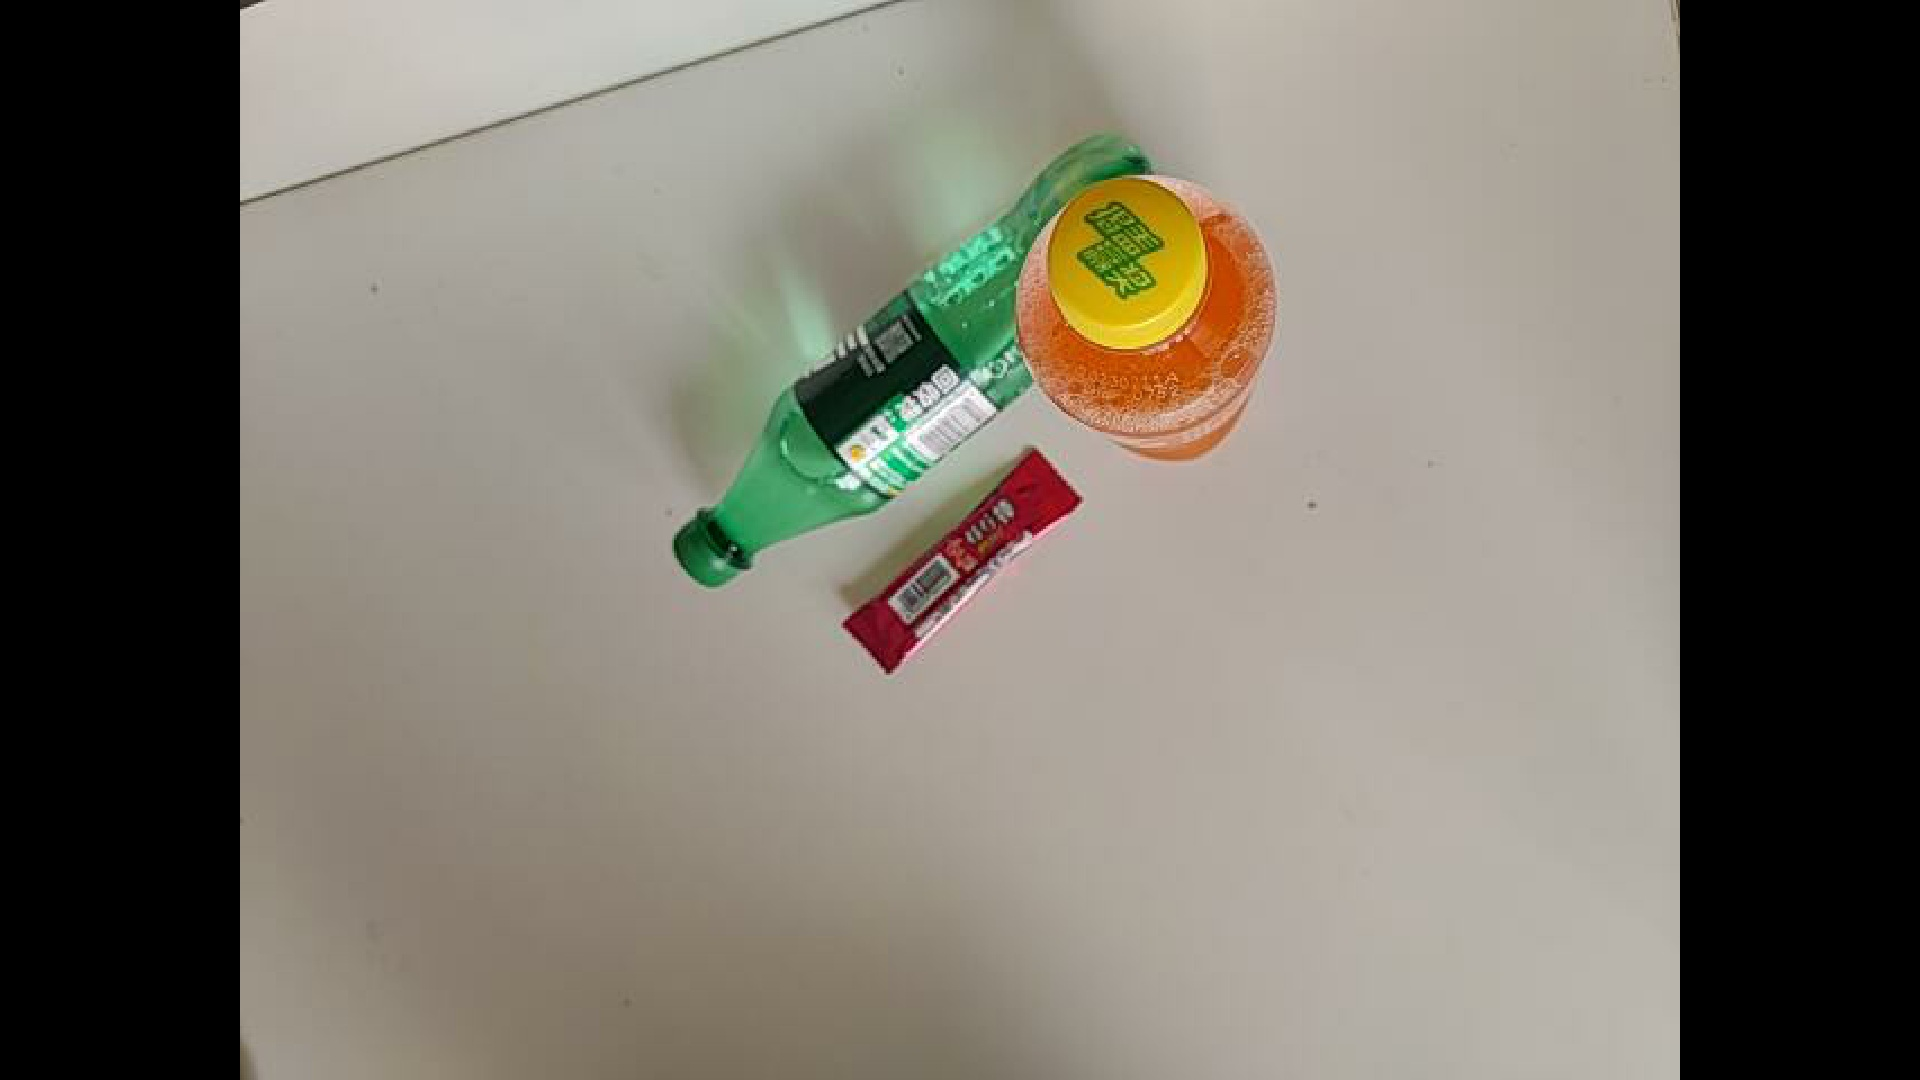fenta: (1014, 173, 1280, 467)
sprite: (628, 284, 1300, 636)
sugar: (836, 524, 1126, 680)
